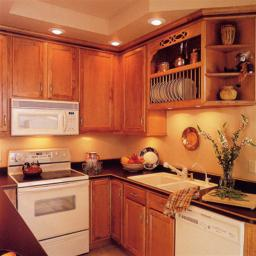Electrodomestico: (10, 152, 90, 250), (175, 220, 245, 254)
Lavaplatos: (130, 161, 219, 199)
